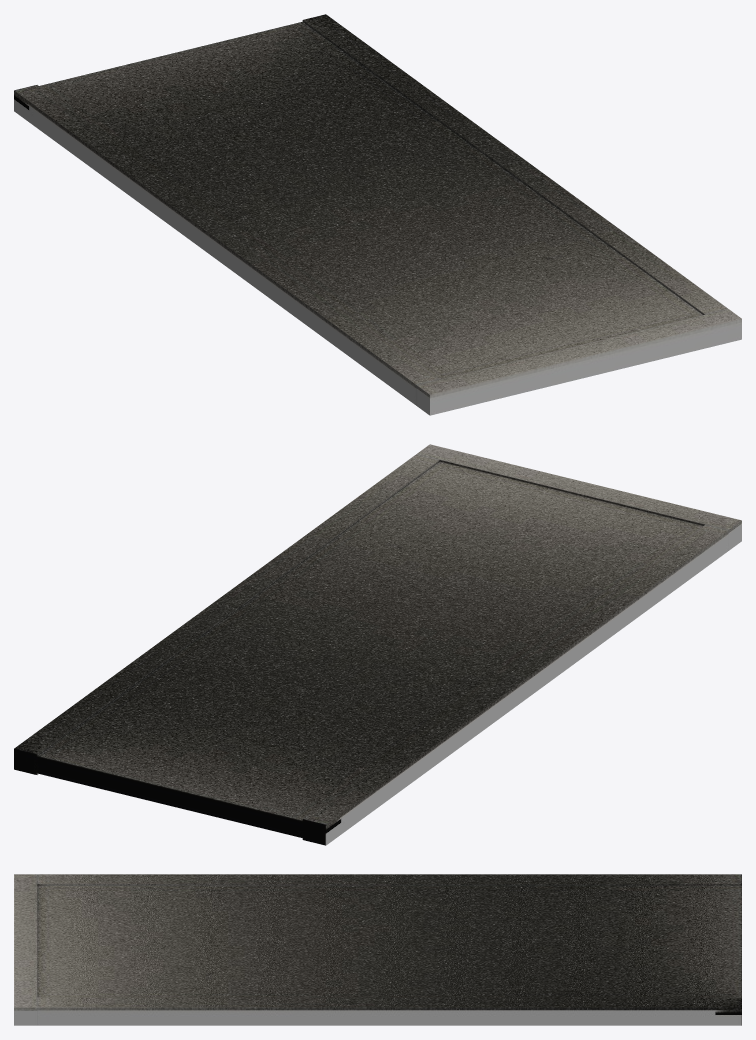
3 renders of one model, top to bottom at view 1: azimuth 30°, elevation 25°; view 2: azimuth 150°, elevation 25°; view 3: azimuth 270°, elevation 25°, orthographic. The views are drawn at different scales.
Parts seen in each view (by area): view 1: D4v_arch_-1.001; view 2: D4v_arch_-1.001; view 3: D4v_arch_-1.001.
Boxes of the visible parts, x1=… form: D4v_arch_-1.001: x1=14, y1=14, x2=741, y2=415; D4v_arch_-1.001: x1=14, y1=444, x2=741, y2=845; D4v_arch_-1.001: x1=14, y1=874, x2=741, y2=1025.
Bounding box in the file's own units: 0.94 × 0.085 × 2.17.
Materials: 1 (1 with a texture image).
